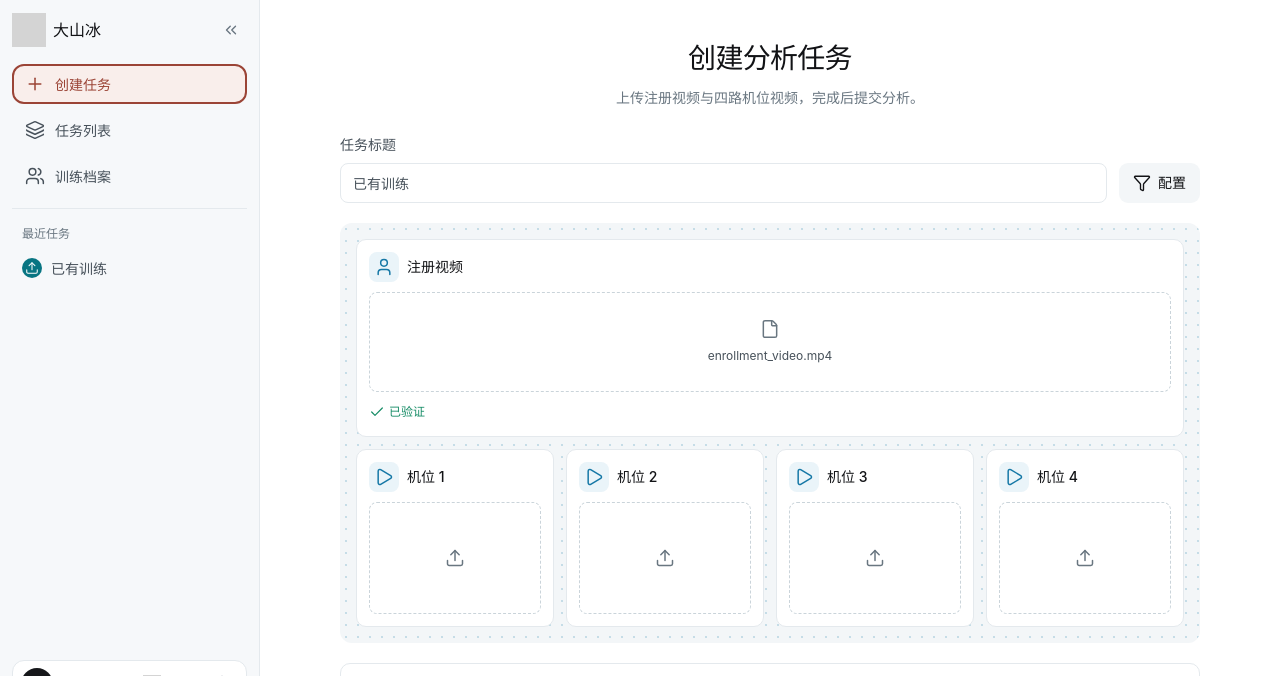
Test case: late metadata responses cannot roll back restored upload progress
This screenshot has width=1280, height=676.
Replace the text in the field showing "已有训练" with "新训练": (724, 183) [340,163,1107,203]
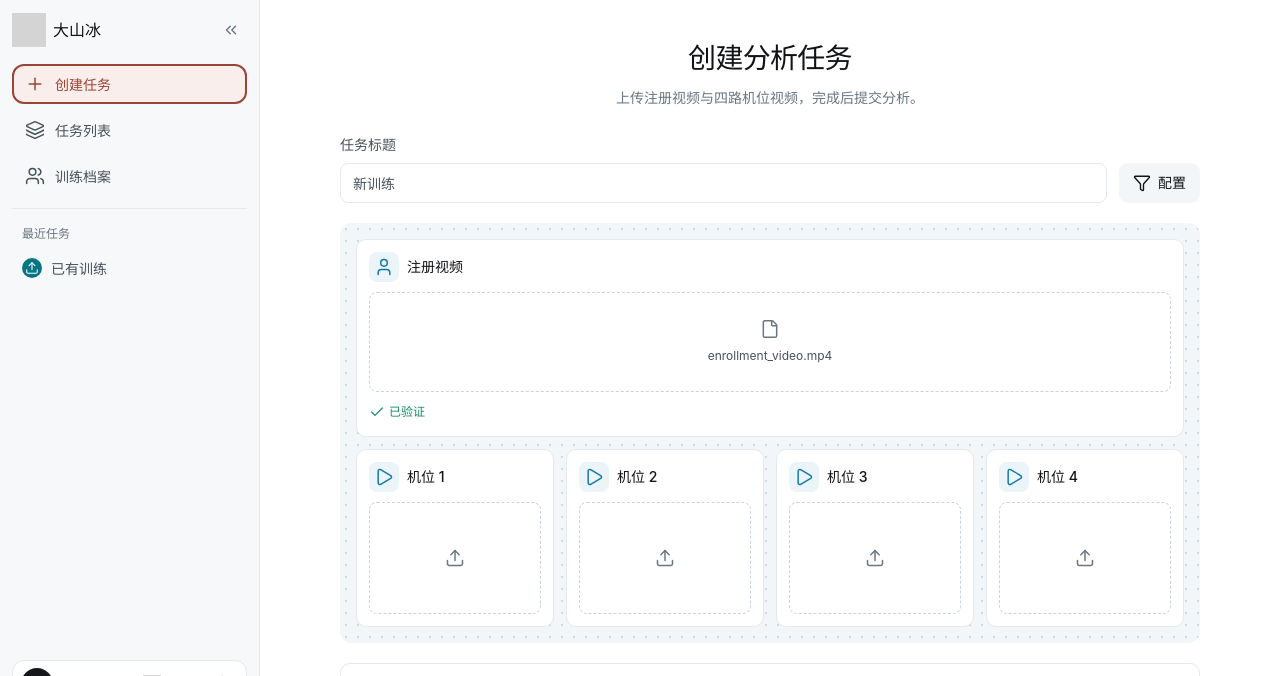
Press Tab
(page scrolled)
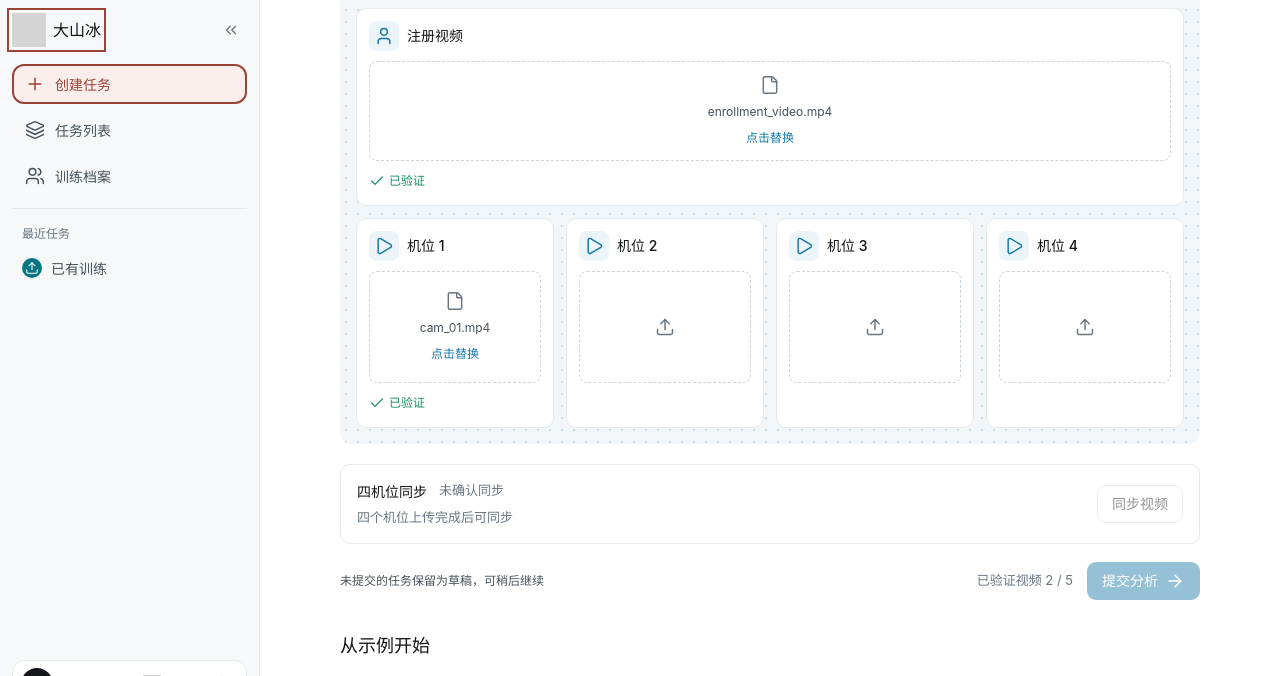
Check: the file field named "机位 2" below "机位 2" is enabled, box [579,271,751,383]
Check: the text "已验证视频 2 / 5" is shown, box [977,571,1073,591]
